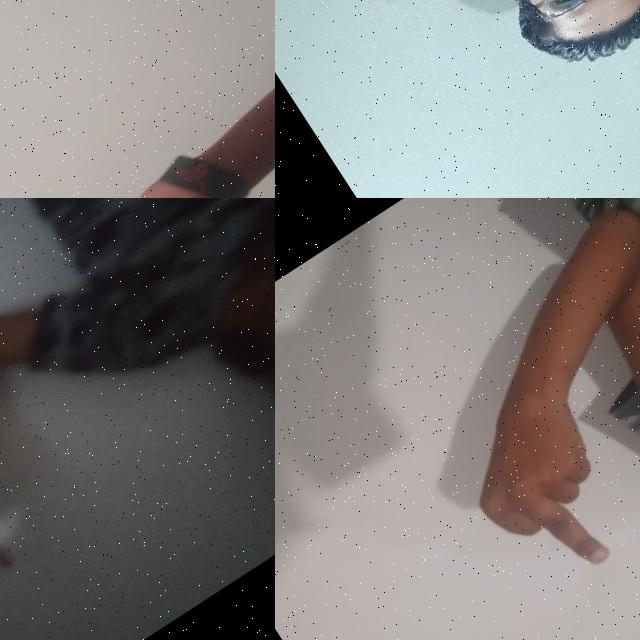Chin Flick: (432, 0, 640, 74)
Middle Finger: (431, 350, 640, 614)
Thumbs Up: (41, 132, 275, 198)
